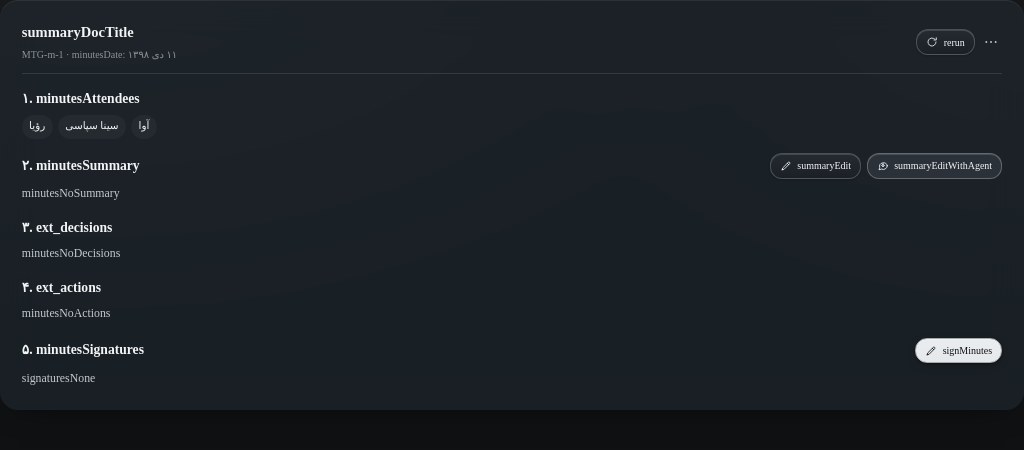
it: the signatures at the foot of the document (db/0229) › signs with the signature on file in one press, and the list follows the server's answer
The image size is (1024, 450).
Click the button "signMinutes" at (959, 351), box [915,338,1002,363]
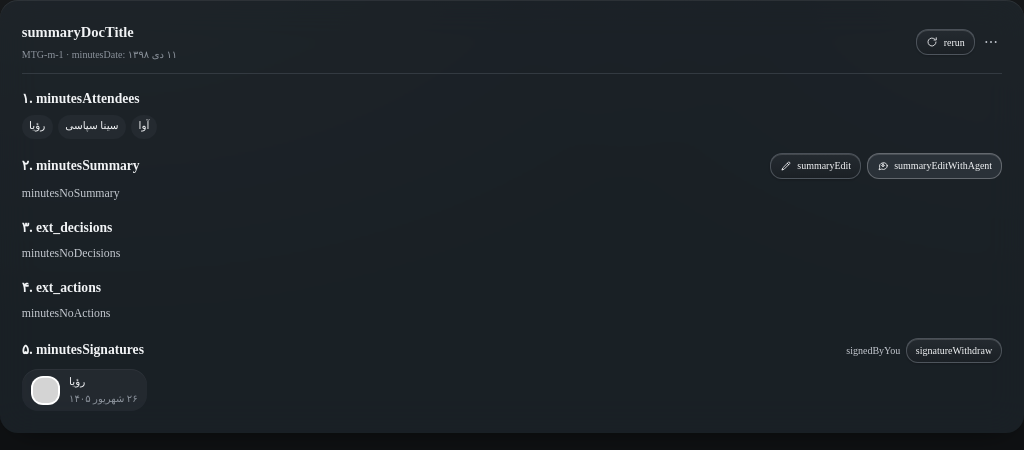
Check: the button "signatureWithdraw" is shown, box [906,338,1002,363]
Check: the text "signedByYou" is shown, box [846,343,900,358]
Check: the button "signMinutes" is gone
